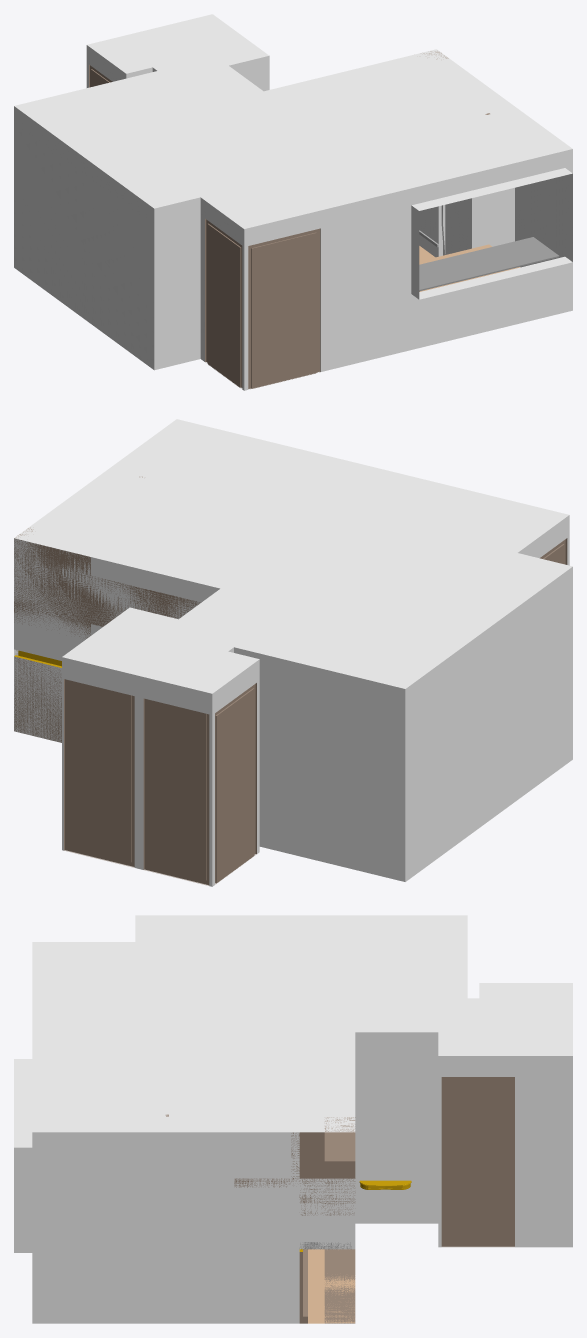
File: IC_509_UNDERGROUND_01.fbx
The picture shows the model from 3 angles, top to bottom: view 1: azimuth 30°, elevation 25°; view 2: azimuth 150°, elevation 25°; view 3: azimuth 270°, elevation 25°; orthographic projection. The views are drawn at different scales.
Parts seen in each view (by area): view 1: room, fridge, pCube5, oven; view 2: room; view 3: room.
Part boxes in pixels (<box>): room: <box>14,14,572,390</box>; fridge: <box>441,187,514,255</box>; pCube5: <box>419,237,559,291</box>; oven: <box>419,205,442,257</box>; room: <box>14,419,572,886</box>; room: <box>14,915,572,1323</box>.
Size of the model in its own units: 224 by 92.6 by 244.
